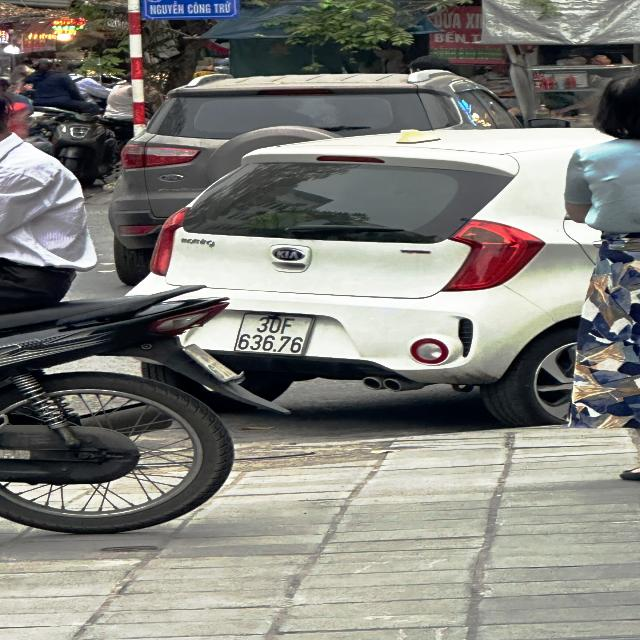license_plate: (232, 311, 318, 357)
